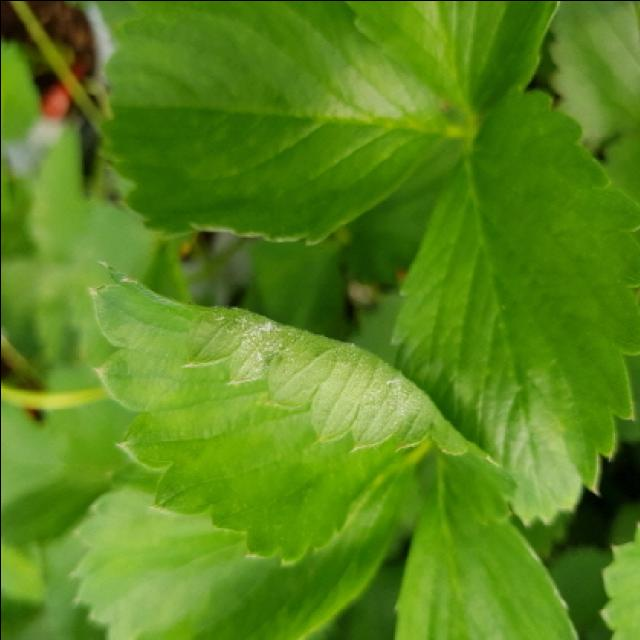Powdery Mildew Leaf: (84, 257, 517, 564)
